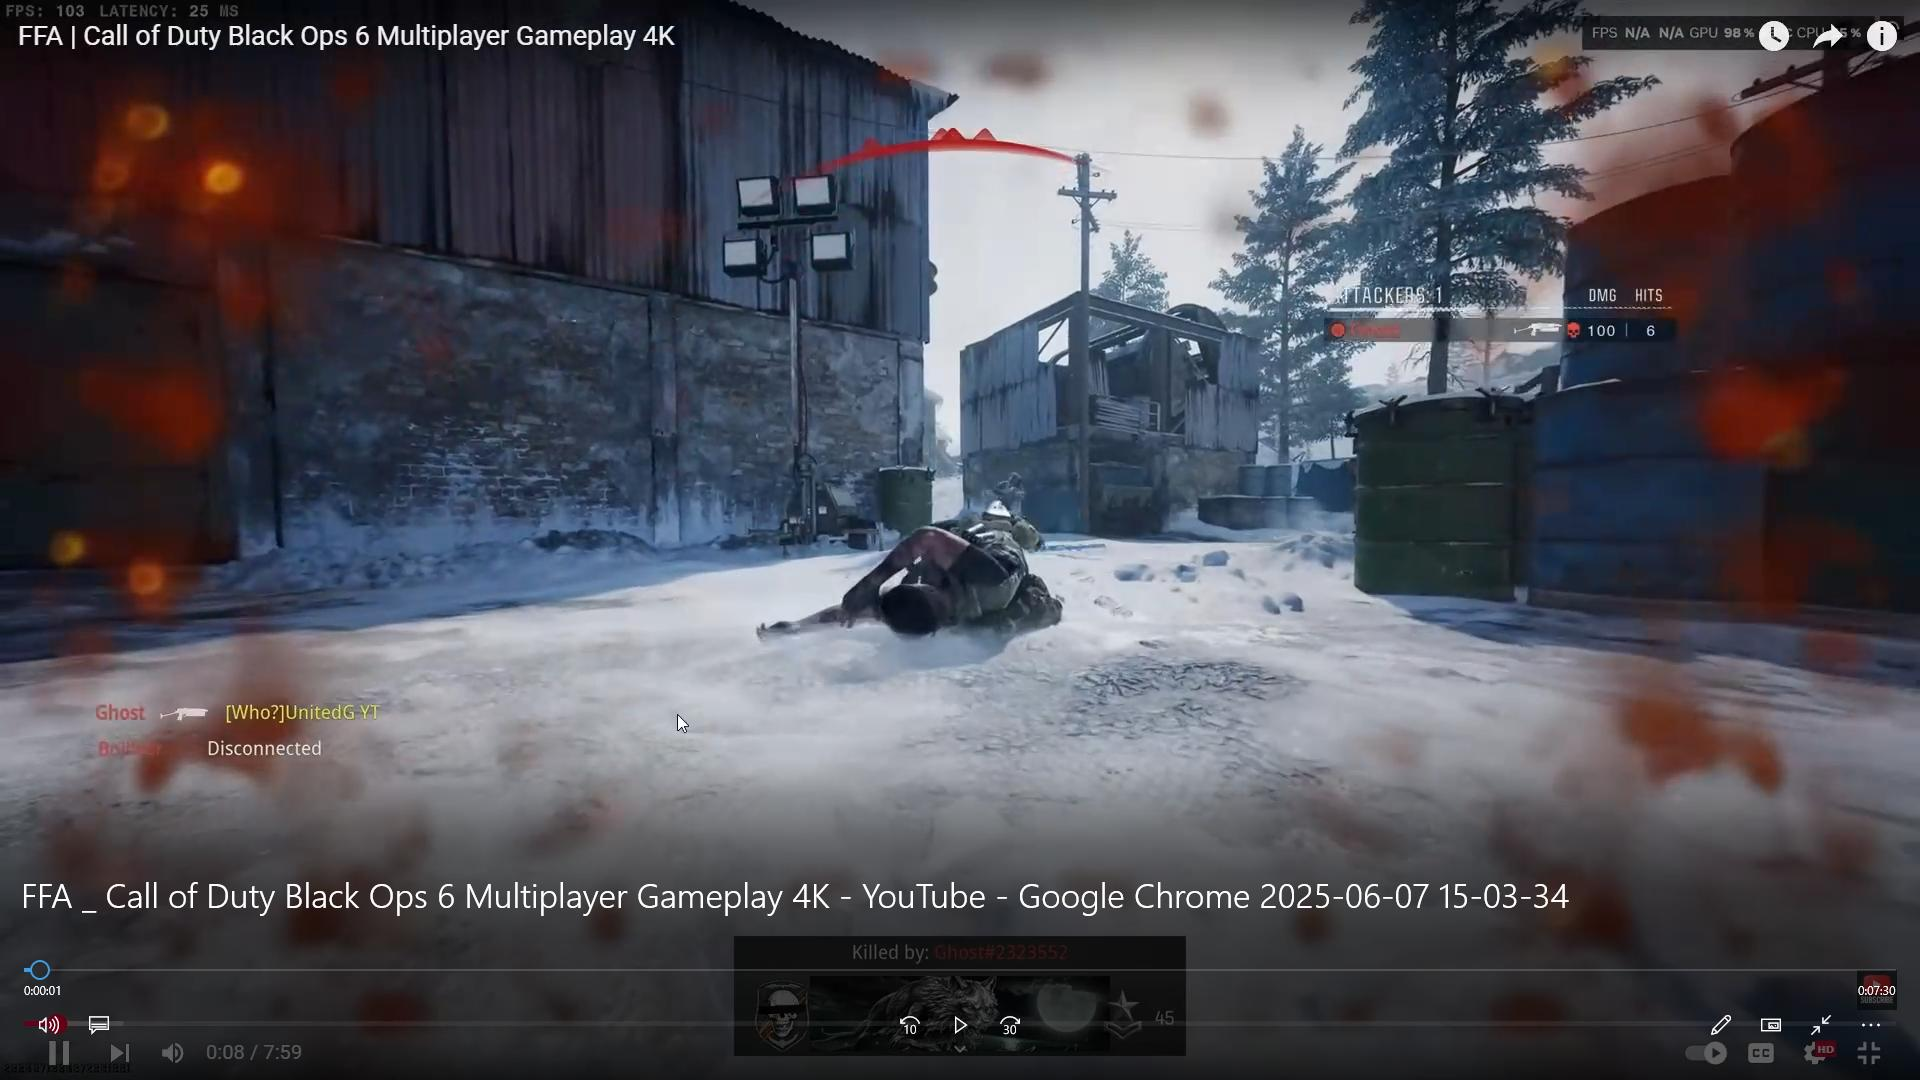Enemy: (993, 462, 1031, 508)
